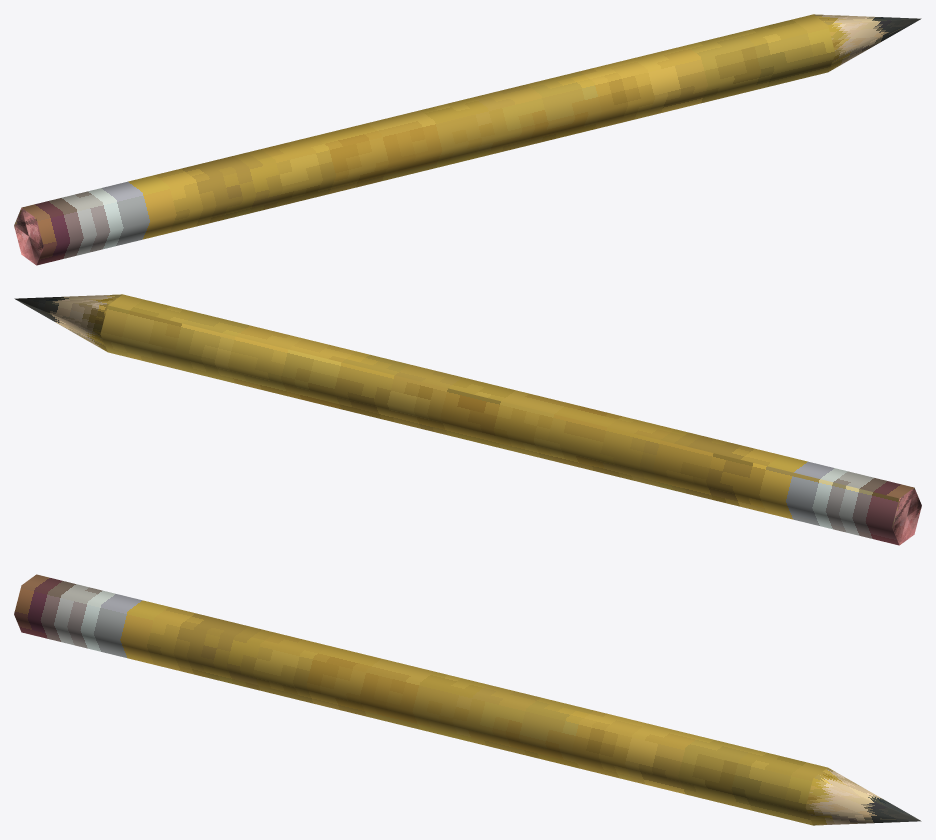
The model's file is p_rus_pencil_LOD0.obj.
3 renders of one model, top to bottom at view 1: azimuth 30°, elevation 25°; view 2: azimuth 150°, elevation 25°; view 3: azimuth 330°, elevation 25°, orthographic.
Parts seen in each view (by area): view 1: mtl_p_rus_pencil; view 2: mtl_p_rus_pencil; view 3: mtl_p_rus_pencil.
Part boxes in pixels (left/top/right/bottom): mtl_p_rus_pencil: left=14, top=14, right=921, bottom=265; mtl_p_rus_pencil: left=14, top=294, right=921, bottom=545; mtl_p_rus_pencil: left=14, top=574, right=921, bottom=825.
Bounding box in the file's own units: 19.32 × 0.9724 × 1.12.
